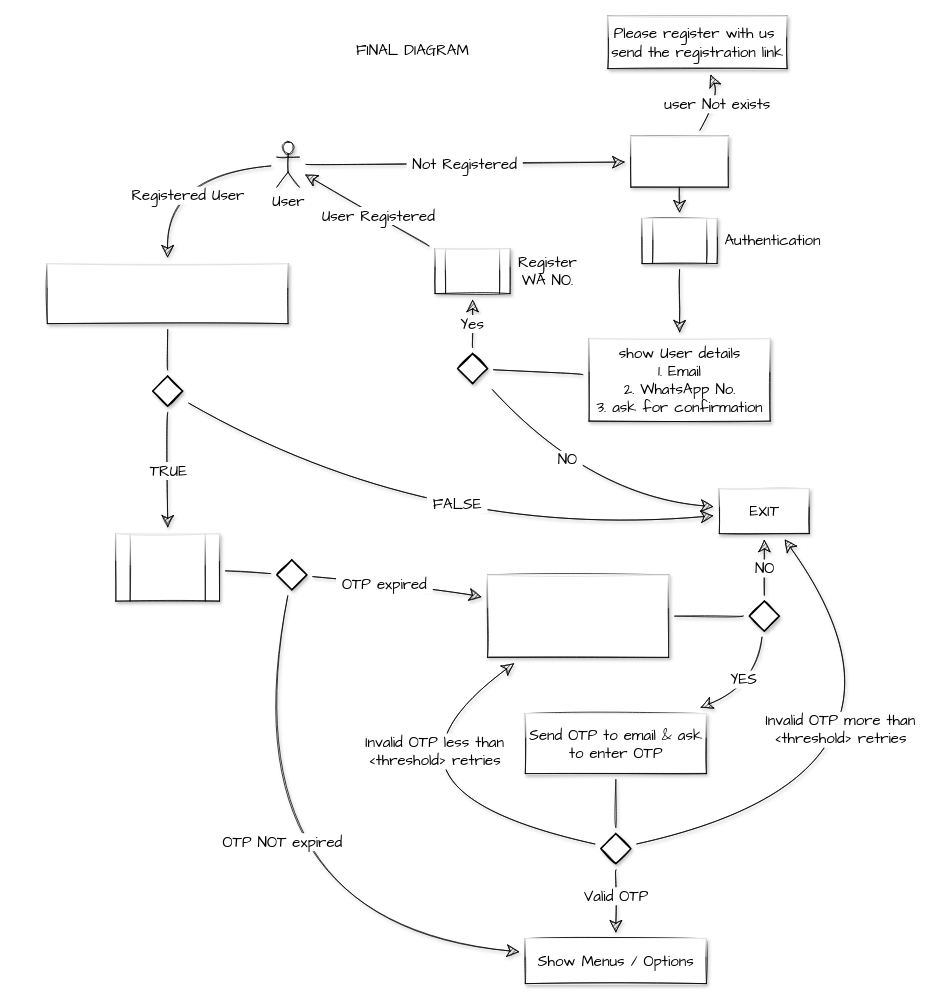
Some shapes in this 929 by 1002 pixel diagram are drawn without their labels. The shapes that lost their labels are listed below. From the top down, each one's centre as x and y in pixels, then its label:
At point (680, 162): "ask for the user ID".
At point (168, 294): "WhatsApp No. == Registered No.".
At point (168, 568): "Verify expiry of OTP".
At point (578, 617): "show User details 1. UserID (with **) 2. ask for confirmation".
